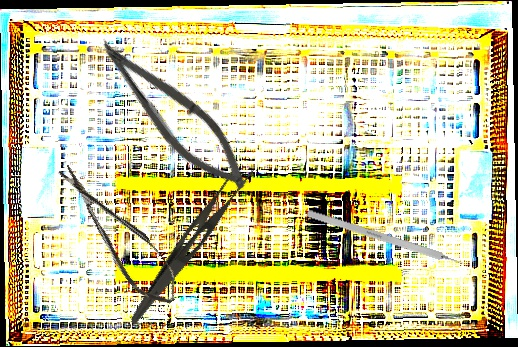Dressing Forceps: (127, 154, 258, 338)
Hook Surgical: (306, 209, 476, 271)
Micro Scissor: (79, 28, 265, 203), (50, 152, 188, 316)
